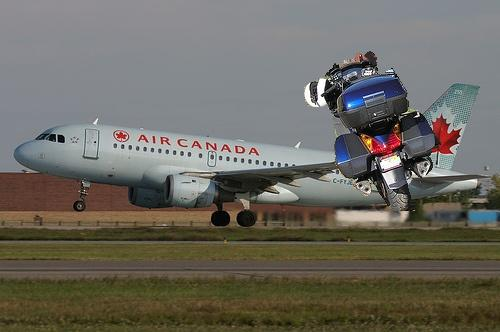tampered: (305, 52, 441, 211)
